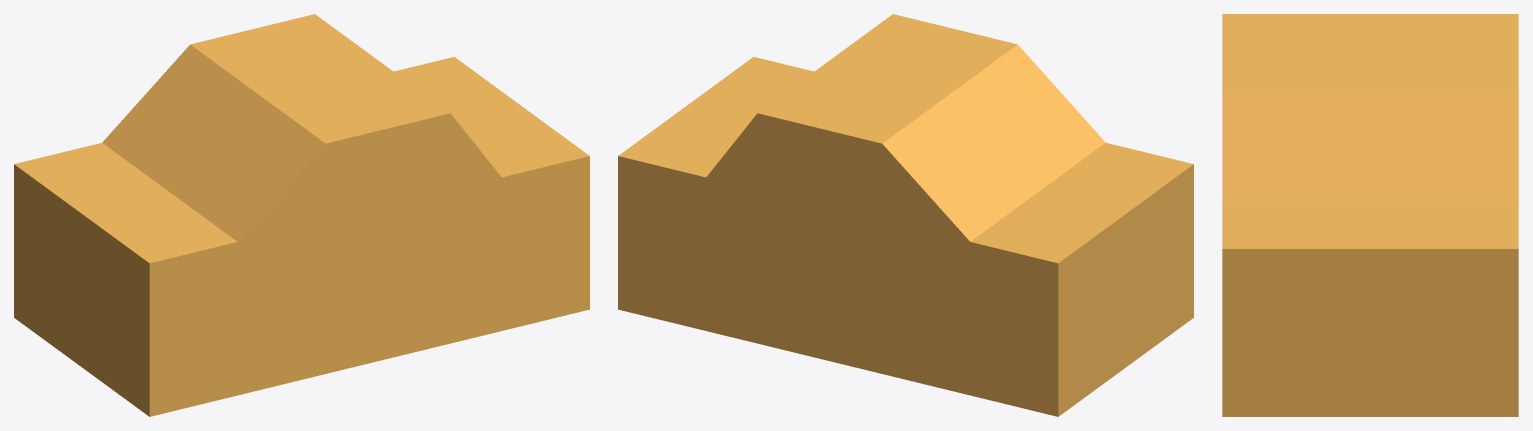
The model's file is worker.fbx.
3 renders of one model, left to right at view 1: azimuth 30°, elevation 25°; view 2: azimuth 150°, elevation 25°; view 3: azimuth 270°, elevation 25°, orthographic. The views are drawn at different scales.
Visible parts, largest first — view 1: Cube; view 2: Cube; view 3: Cube.
Boxes of the visible parts, x1=… form: Cube: x1=14, y1=14, x2=589, y2=416; Cube: x1=618, y1=14, x2=1193, y2=416; Cube: x1=1222, y1=14, x2=1518, y2=416.
Bounding box in the file's own units: 30 × 15 × 16.
